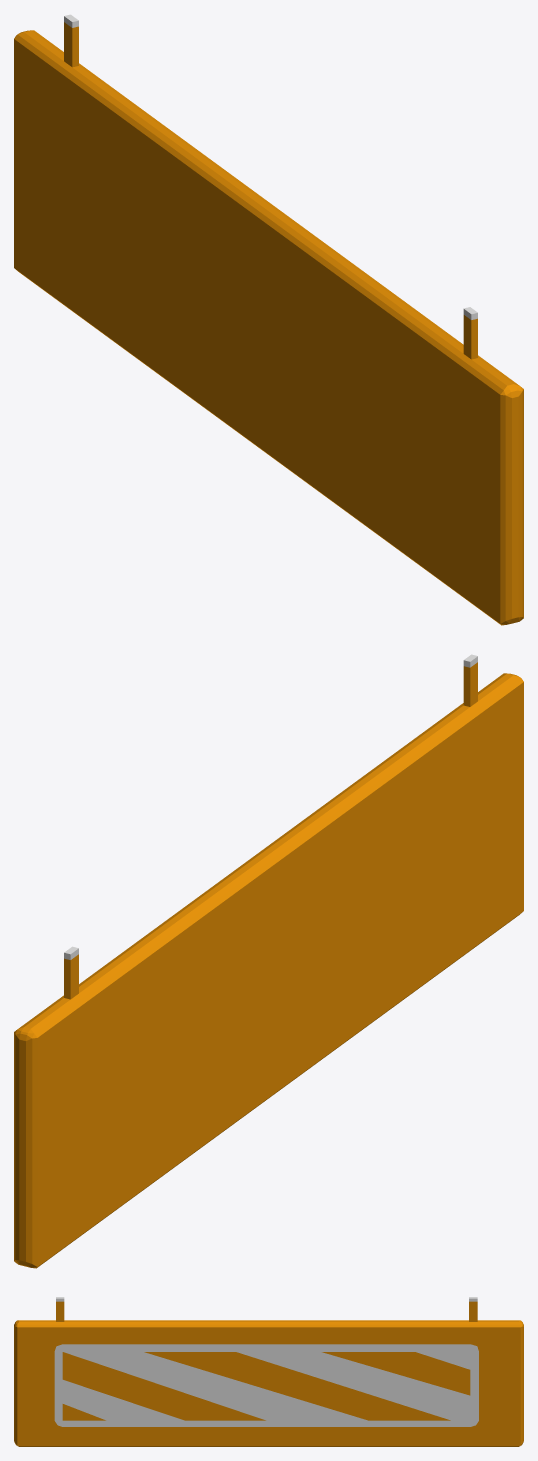
The model's file is wall.fbx.
3 views of the same model, one above another, from view 1: azimuth 30°, elevation 25°; view 2: azimuth 150°, elevation 25°; view 3: azimuth 270°, elevation 25° (orthographic). The views are drawn at different scales.
Visible parts, largest first — view 1: Cube; view 2: Cube; view 3: Cube.
Part boxes in pixels (bbox=[...]): Cube: bbox=[14, 14, 523, 625]; Cube: bbox=[14, 654, 523, 1268]; Cube: bbox=[14, 1297, 523, 1446].
Bounding box in the file's own units: 27.29 × 313 × 986.
